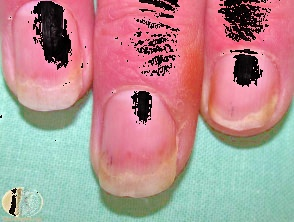Nail_psoriasis: (74, 30, 264, 222), (198, 54, 294, 137), (4, 48, 90, 119)
